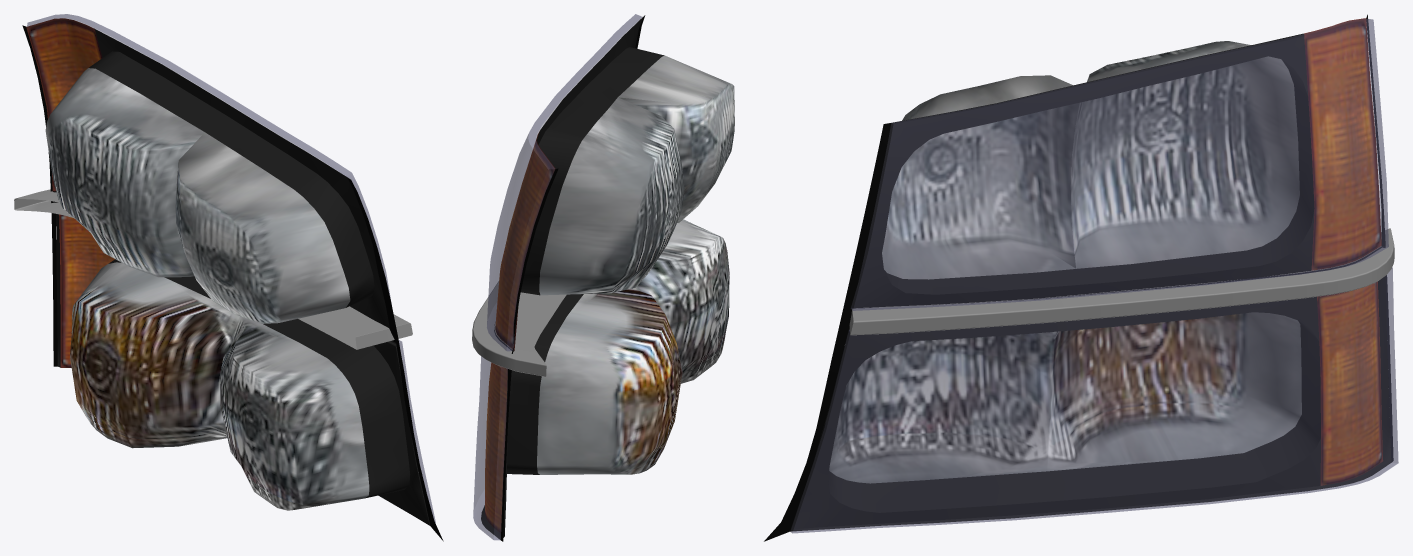
The picture shows the model from 3 angles, left to right: view 1: azimuth 30°, elevation 25°; view 2: azimuth 150°, elevation 25°; view 3: azimuth 270°, elevation 25°; orthographic projection. The views are drawn at different scales.
Parts seen in each view (by area): view 1: U803_3A_061B_L_U803_3A_061B_L_4_N, U803_3A_061B_L_U803_3A_061B_L_5_N, U803_3A_061B_L_1_DaS_U803_3A_061B_L, U803_3A_061B_L_U803_3A_061B_L_6_D, U803_3A_061B_L_U803_3A_061B_L_2_DTaSI, U803_3A_061B_L_U803_3A_061B_L_3_DTaSI; view 2: U803_3A_061B_L_U803_3A_061B_L_4_N, U803_3A_061B_L_U803_3A_061B_L_5_N, U803_3A_061B_L_U803_3A_061B_L_2_DTaSI, U803_3A_061B_L_U803_3A_061B_L_3_DTaSI, U803_3A_061B_L_1_DaS_U803_3A_061B_L, U803_3A_061B_L_U803_3A_061B_L_6_D; view 3: U803_3A_061B_L_U803_3A_061B_L_4_N, U803_3A_061B_L_U803_3A_061B_L_3_DTaSI, U803_3A_061B_L_U803_3A_061B_L_2_DTaSI, U803_3A_061B_L_U803_3A_061B_L_5_N, U803_3A_061B_L_1_DaS_U803_3A_061B_L, U803_3A_061B_L_U803_3A_061B_L_6_D.
Boxes of the visible parts, x1=… form: U803_3A_061B_L_U803_3A_061B_L_4_N: x1=26, y1=18, x2=389, y2=328; U803_3A_061B_L_U803_3A_061B_L_5_N: x1=56, y1=214, x2=430, y2=525; U803_3A_061B_L_1_DaS_U803_3A_061B_L: x1=14, y1=189, x2=412, y2=349; U803_3A_061B_L_U803_3A_061B_L_6_D: x1=22, y1=25, x2=443, y2=541; U803_3A_061B_L_U803_3A_061B_L_2_DTaSI: x1=27, y1=14, x2=391, y2=301; U803_3A_061B_L_U803_3A_061B_L_3_DTaSI: x1=398, y1=340, x2=435, y2=522; U803_3A_061B_L_U803_3A_061B_L_4_N: x1=495, y1=17, x2=734, y2=350; U803_3A_061B_L_U803_3A_061B_L_5_N: x1=481, y1=219, x2=729, y2=539; U803_3A_061B_L_U803_3A_061B_L_2_DTaSI: x1=487, y1=14, x2=642, y2=351; U803_3A_061B_L_U803_3A_061B_L_3_DTaSI: x1=473, y1=356, x2=507, y2=540; U803_3A_061B_L_1_DaS_U803_3A_061B_L: x1=472, y1=281, x2=566, y2=376; U803_3A_061B_L_U803_3A_061B_L_6_D: x1=494, y1=15, x2=645, y2=541; U803_3A_061B_L_U803_3A_061B_L_4_N: x1=851, y1=18, x2=1381, y2=308; U803_3A_061B_L_U803_3A_061B_L_3_DTaSI: x1=790, y1=267, x2=1398, y2=533; U803_3A_061B_L_U803_3A_061B_L_2_DTaSI: x1=851, y1=18, x2=1388, y2=310; U803_3A_061B_L_U803_3A_061B_L_5_N: x1=790, y1=276, x2=1391, y2=531; U803_3A_061B_L_1_DaS_U803_3A_061B_L: x1=849, y1=228, x2=1394, y2=335; U803_3A_061B_L_U803_3A_061B_L_6_D: x1=764, y1=14, x2=1393, y2=541.
Bounding box in the file's own units: 15.56 × 28.37 × 36.78.
